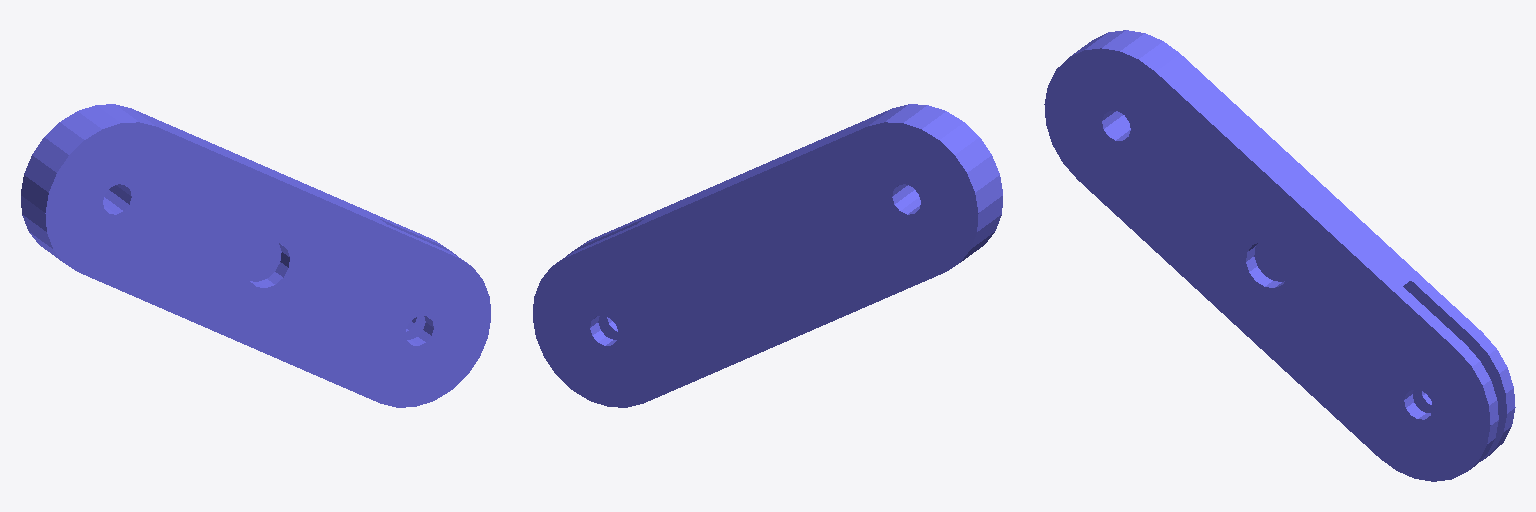
The robot description file, URDF, robot "Arm_Discription":
<?xml version="1.0" encoding="utf-8"?>
<!-- This URDF was automatically created by SolidWorks to URDF Exporter! Originally created by [author] ([email redacted]) 
     Commit Version: 1.6.0-1-g15f4949  Build Version: 1.6.7594.29634
     For more information, please see http://wiki.ros.org/sw_urdf_exporter -->
<robot
  name="Arm_Discription">
  <link
    name="base_link">
    <inertial>
      <origin
        xyz="0.0065983702120464 -0.336373566912517 -0.0257427295708327"
        rpy="0 0 0" />
      <mass
        value="2.13775890794895" />
      <inertia
        ixx="0.0447028692836465"
        ixy="-2.53128621951427E-05"
        ixz="-2.94763553843347E-07"
        iyy="0.00543037915506856"
        iyz="8.94085734844391E-06"
        izz="0.0447043656015194" />
    </inertial>
    <visual>
      <origin
        xyz="0 0 0"
        rpy="0 0 0" />
      <geometry>
        <mesh
          filename="package://Arm_Discription/meshes/base_link.STL" />
      </geometry>
      <material
        name="">
        <color
          rgba="0.792156862745098 0.819607843137255 0.933333333333333 1" />
      </material>
    </visual>
    <collision>
      <origin
        xyz="0 0 0"
        rpy="0 0 0" />
      <geometry>
        <mesh
          filename="package://Arm_Discription/meshes/base_link.STL" />
      </geometry>
    </collision>
  </link>
  <link
    name="link_1">
    <inertial>
      <origin
        xyz="-1.38777878078145E-17 -0.0718597871210987 -0.220409660211877"
        rpy="0 0 0" />
      <mass
        value="0.979766055196368" />
      <inertia
        ixx="0.00747669548599809"
        ixy="1.2959607780939E-20"
        ixz="-4.62594424194579E-20"
        iyy="0.00122674898370894"
        iyz="-3.56275974428908E-06"
        izz="0.00814613143305283" />
    </inertial>
    <visual>
      <origin
        xyz="0 0 0"
        rpy="0 0 0" />
      <geometry>
        <mesh
          filename="package://Arm_Discription/meshes/link_1.STL" />
      </geometry>
      <material
        name="">
        <color
          rgba="0.501960784313725 0.501960784313725 1 1" />
      </material>
    </visual>
    <collision>
      <origin
        xyz="0 0 0"
        rpy="0 0 0" />
      <geometry>
        <mesh
          filename="package://Arm_Discription/meshes/link_1.STL" />
      </geometry>
    </collision>
  </link>
  <joint
    name="joint_1"
    type="prismatic">
    <origin
      xyz="0.0066366 -0.563 -0.025756"
      rpy="1.5708 0 0" />
    <parent
      link="base_link" />
    <child
      link="link_1" />
    <axis
      xyz="0 0 1" />
    <limit
      lower="0"
      upper="0.3"
      effort="0"
      velocity="0" />
  </joint>
  <link
    name="link_2">
    <inertial>
      <origin
        xyz="0 -0.111115906260767 -0.232361450184178"
        rpy="0 0 0" />
      <mass
        value="0.735688332874956" />
      <inertia
        ixx="0.0070398656492512"
        ixy="7.58941520739853E-19"
        ixz="-5.99805205774451E-20"
        iyy="0.00068175511857601"
        iyz="-9.81408755089888E-07"
        izz="0.0075818839430566" />
    </inertial>
    <visual>
      <origin
        xyz="0 0 0"
        rpy="0 0 0" />
      <geometry>
        <mesh
          filename="package://Arm_Discription/meshes/link_2.STL" />
      </geometry>
      <material
        name="">
        <color
          rgba="0.501960784313725 0.501960784313725 1 1" />
      </material>
    </visual>
    <collision>
      <origin
        xyz="0 0 0"
        rpy="0 0 0" />
      <geometry>
        <mesh
          filename="package://Arm_Discription/meshes/link_2.STL" />
      </geometry>
    </collision>
  </link>
  <joint
    name="joint_2"
    type="continuous">
    <origin
      xyz="0 -0.200720396700335 0.012"
      rpy="0 0 0.995527576712073" />
    <parent
      link="link_1" />
    <child
      link="link_2" />
    <axis
      xyz="0 0 1" />
  </joint>
  <link
    name="link_3">
    <inertial>
      <origin
        xyz="0 -0.0858630761090735 -0.232265368961265"
        rpy="0 0 0" />
      <mass
        value="0.460587997888459" />
      <inertia
        ixx="0.00330258197825701"
        ixy="9.15470372832109E-19"
        ixz="-1.36543554243177E-20"
        iyy="0.000523672756561596"
        iyz="2.16686851213976E-19"
        izz="0.00357603273485007" />
    </inertial>
    <visual>
      <origin
        xyz="0 0 0"
        rpy="0 0 0" />
      <geometry>
        <mesh
          filename="package://Arm_Discription/meshes/link_3.STL" />
      </geometry>
      <material
        name="">
        <color
          rgba="0.501960784313725 0.501960784313725 1 1" />
      </material>
    </visual>
    <collision>
      <origin
        xyz="0 0 0"
        rpy="0 0 0" />
      <geometry>
        <mesh
          filename="package://Arm_Discription/meshes/link_3.STL" />
      </geometry>
    </collision>
  </link>
  <joint
    name="joint_3"
    type="continuous">
    <origin
      xyz="0 -0.25 0"
      rpy="0 0 -0.995527576712073" />
    <parent
      link="link_2" />
    <child
      link="link_3" />
    <axis
      xyz="0 0 1" />
  </joint>
</robot>

--- Facts derived from the render (not from the file) ---
3 views of the same robot in one strip: view 1: azimuth 30°, elevation 25°; view 2: azimuth 150°, elevation 25°; view 3: azimuth 330°, elevation 25° (orthographic).
Model Arm_Discription with 4 links and 3 joints (2 continuous, 1 prismatic), rooted at base_link, posed every joint at zero.
Visible links, largest first — view 1: link_2; view 2: link_2; view 3: link_2.
Link boxes in pixels (x1=…): link_2: x1=21, y1=104, x2=490, y2=407; link_2: x1=533, y1=104, x2=1002, y2=407; link_2: x1=1044, y1=30, x2=1515, y2=481.
Size in the robot's own frame: 0.3096 by 0.03 by 0.2359 metres.
1 mesh visuals loaded from 4 distinct referenced files (1 binary STL); not drawn: 3 (reference not matched to a file when rendering).